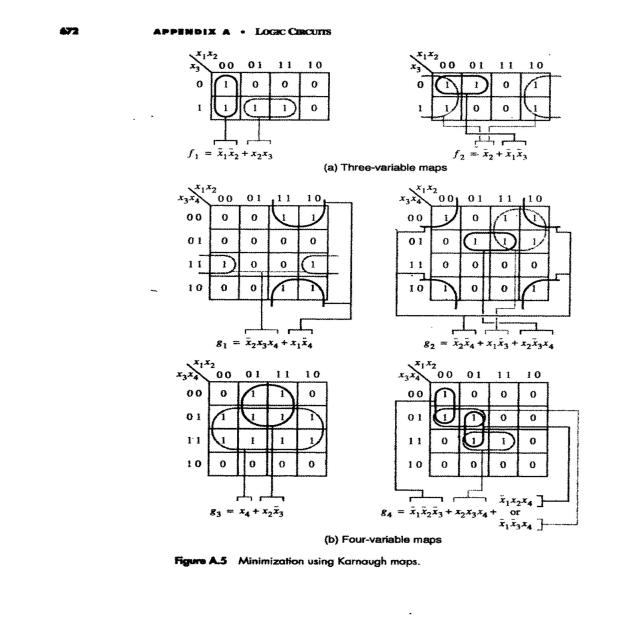diagram: (128, 42, 620, 578)
